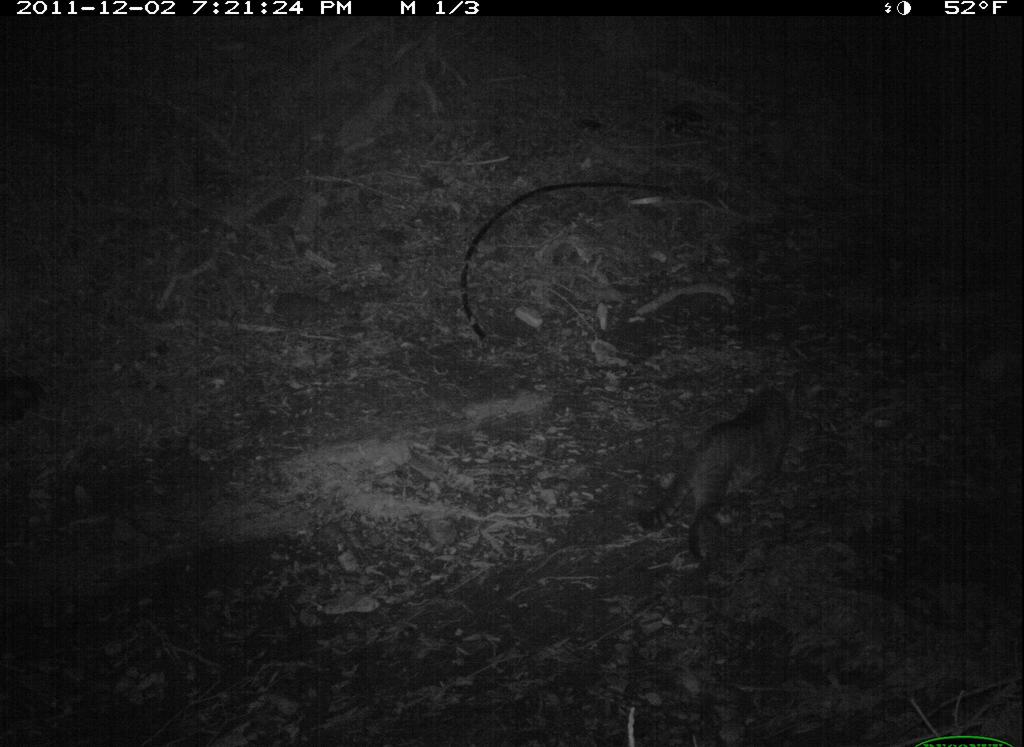cat: (633, 385, 797, 564)
